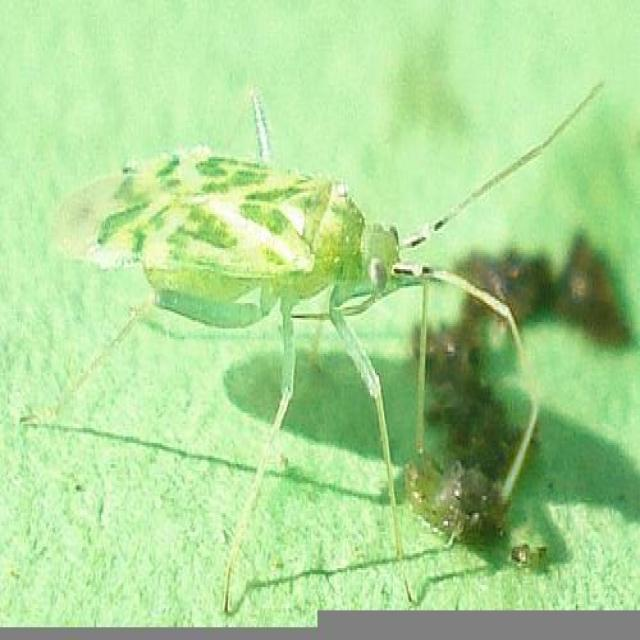Miridae-Adult-: (64, 72, 604, 522)
